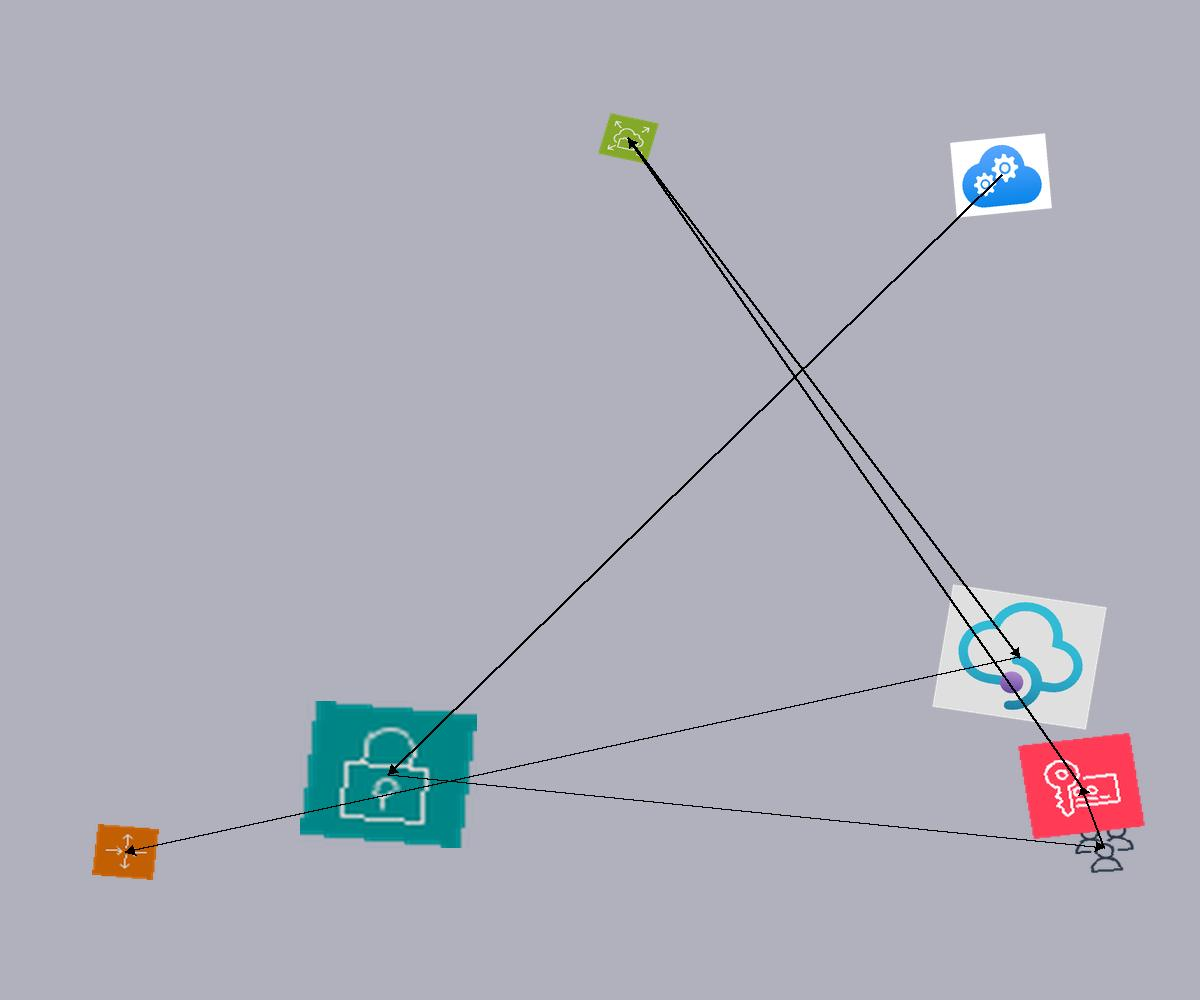AWS-EFS: (598, 113, 659, 164)
AWS-Key-Management-Service: (1017, 732, 1146, 840)
AWS-Private-subnet: (300, 701, 477, 848)
AWS-Res_Users: (1070, 819, 1139, 876)
AWS-Scaling-group: (92, 824, 159, 880)
Azure_api_gateway: (932, 584, 1107, 730)
Azure_cloud_services: (950, 133, 1052, 218)
